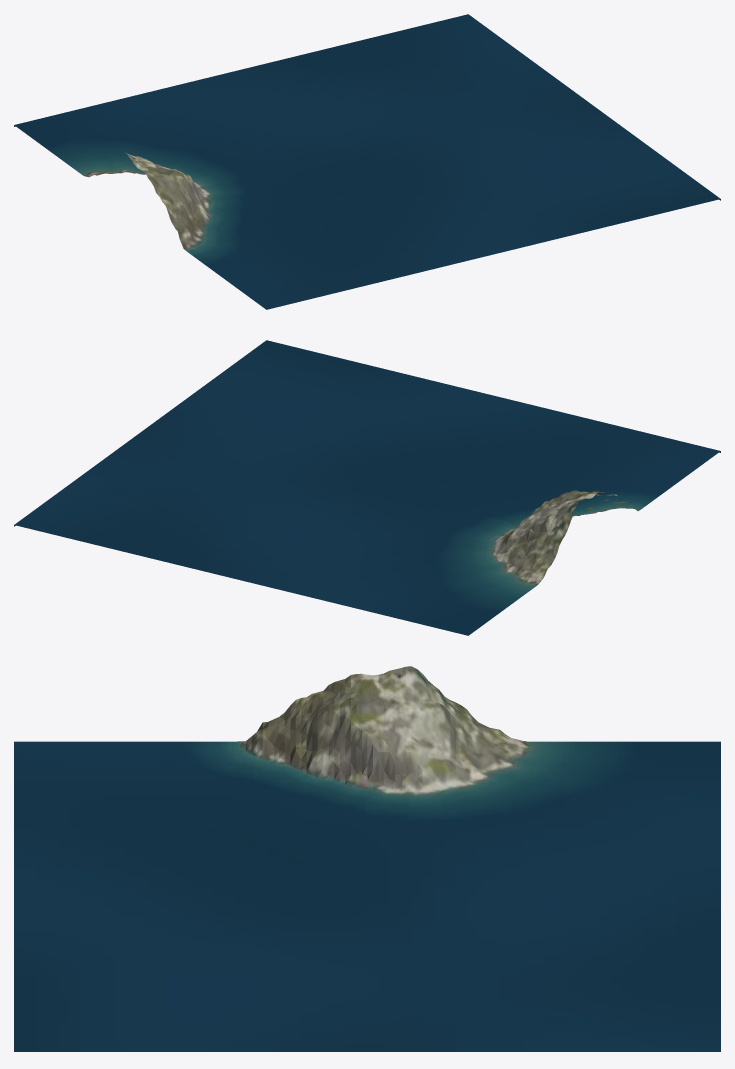
3 renders of one model, top to bottom at view 1: azimuth 30°, elevation 25°; view 2: azimuth 150°, elevation 25°; view 3: azimuth 270°, elevation 25°, orthographic. The views are drawn at different scales.
Size of the model in its own units: 250 by 29.3 by 241.
1 material, 1 textured.
